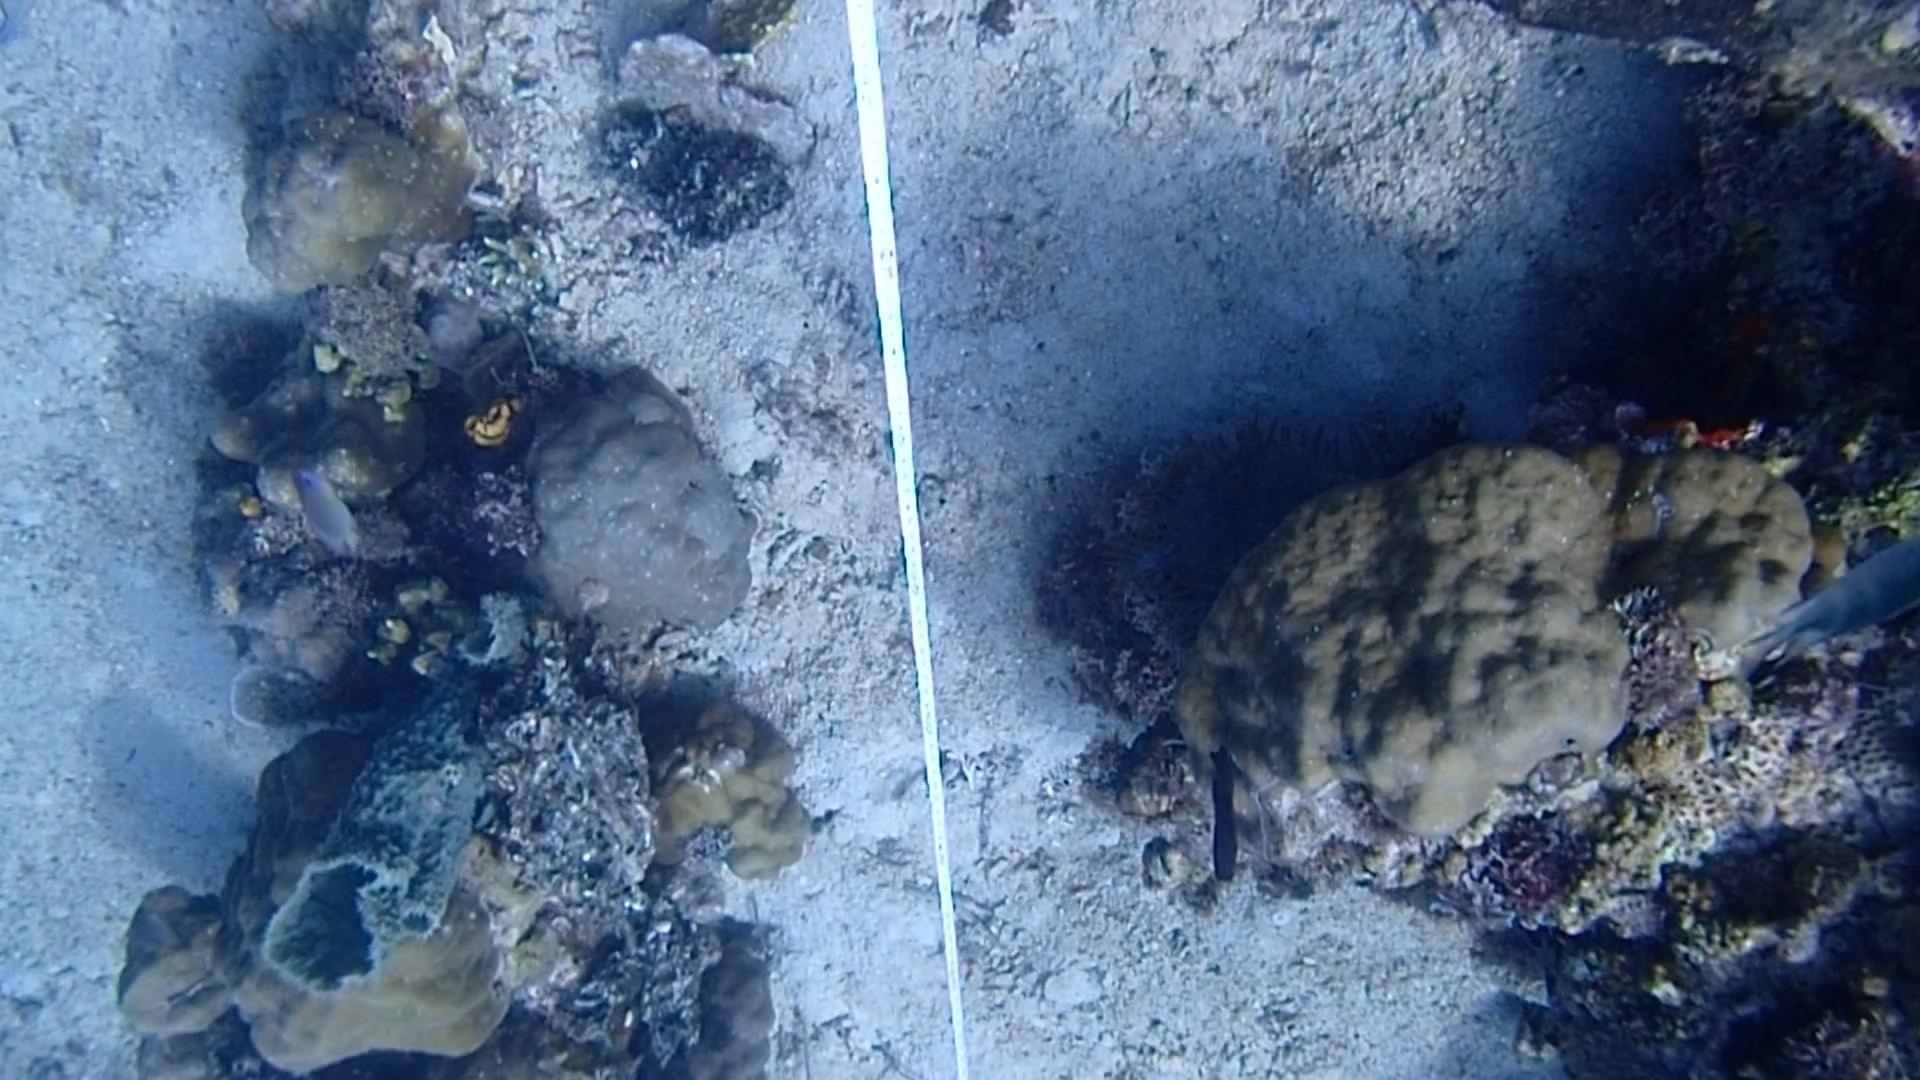Blue Fish: (1750, 509, 1920, 704)
Blue Nose Fish: (287, 462, 376, 574)
Dark Fish: (1187, 744, 1258, 897)
